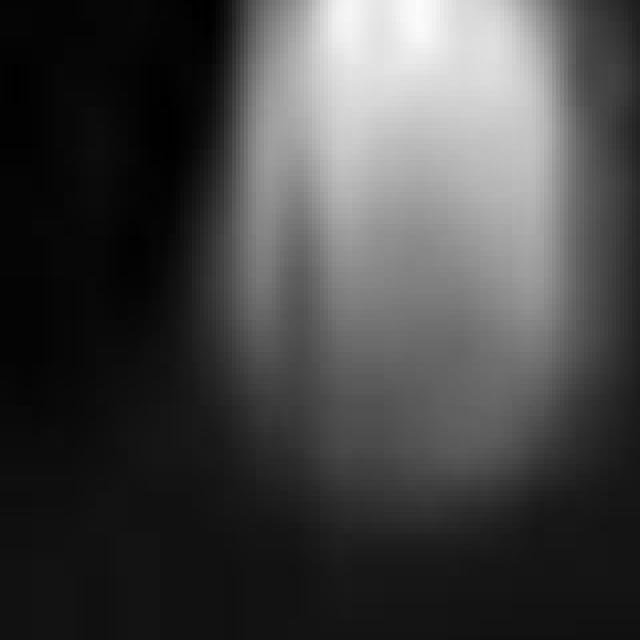person: (201, 1, 609, 534)
